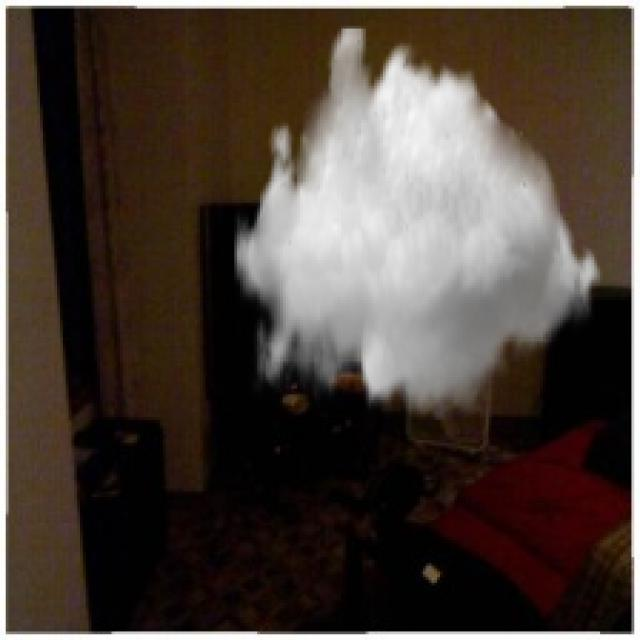smoke: (234, 26, 609, 420)
